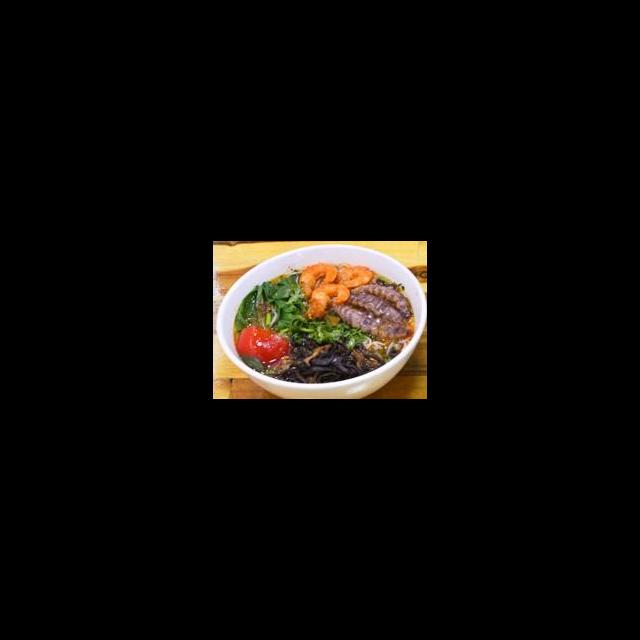tom: (302, 282, 352, 321), (296, 260, 340, 301), (321, 263, 376, 291)
tom tit: (327, 296, 414, 342), (348, 282, 415, 321), (344, 290, 407, 325)
